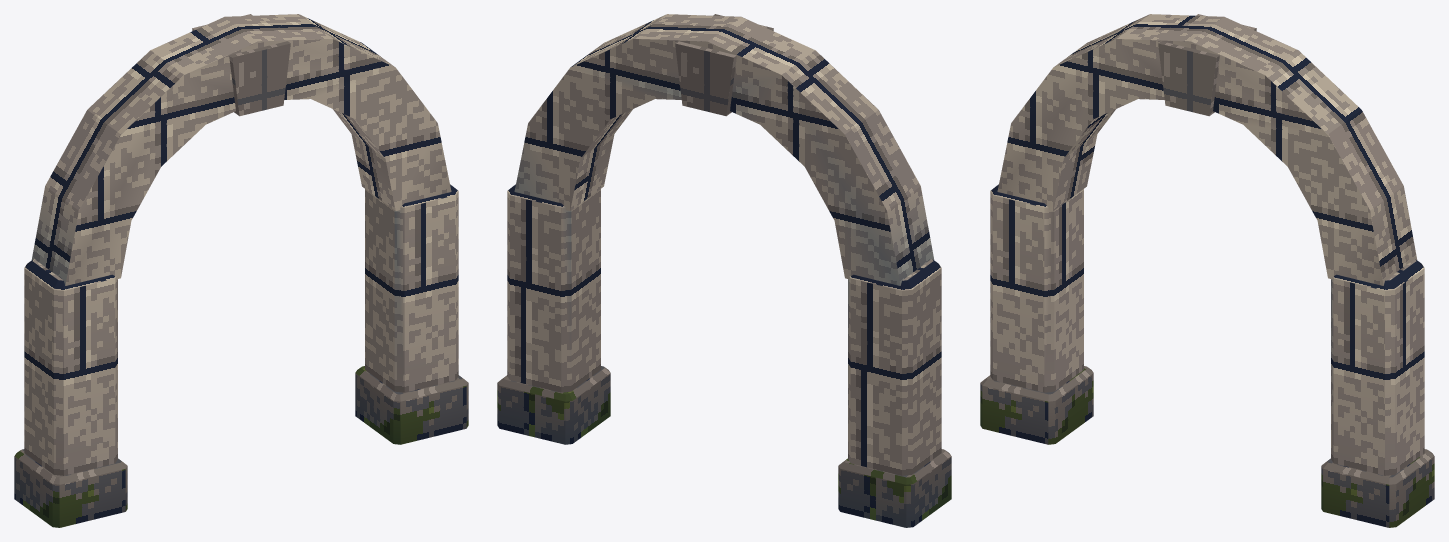
The model's file is dgn.doorway__arch.glb.
The picture shows the model from 3 angles, left to right: view 1: azimuth 30°, elevation 25°; view 2: azimuth 150°, elevation 25°; view 3: azimuth 330°, elevation 25°; orthographic projection.
Parts seen in each view (by area): view 1: kit_piers, kit_head, kit_keystone; view 2: kit_piers, kit_head, kit_keystone; view 3: kit_piers, kit_head, kit_keystone.
Boxes of the visible parts, bbox=[...] form: kit_piers: bbox=[14, 184, 468, 527]; kit_head: bbox=[31, 14, 451, 285]; kit_keystone: bbox=[192, 14, 290, 116]; kit_piers: bbox=[497, 184, 951, 527]; kit_head: bbox=[514, 14, 934, 285]; kit_keystone: bbox=[675, 14, 773, 116]; kit_piers: bbox=[980, 184, 1434, 527]; kit_head: bbox=[997, 14, 1417, 285]; kit_keystone: bbox=[1158, 14, 1256, 116].
Size of the model in its own units: 4.54 by 4.52 by 0.82.
3 materials, 3 textured.
